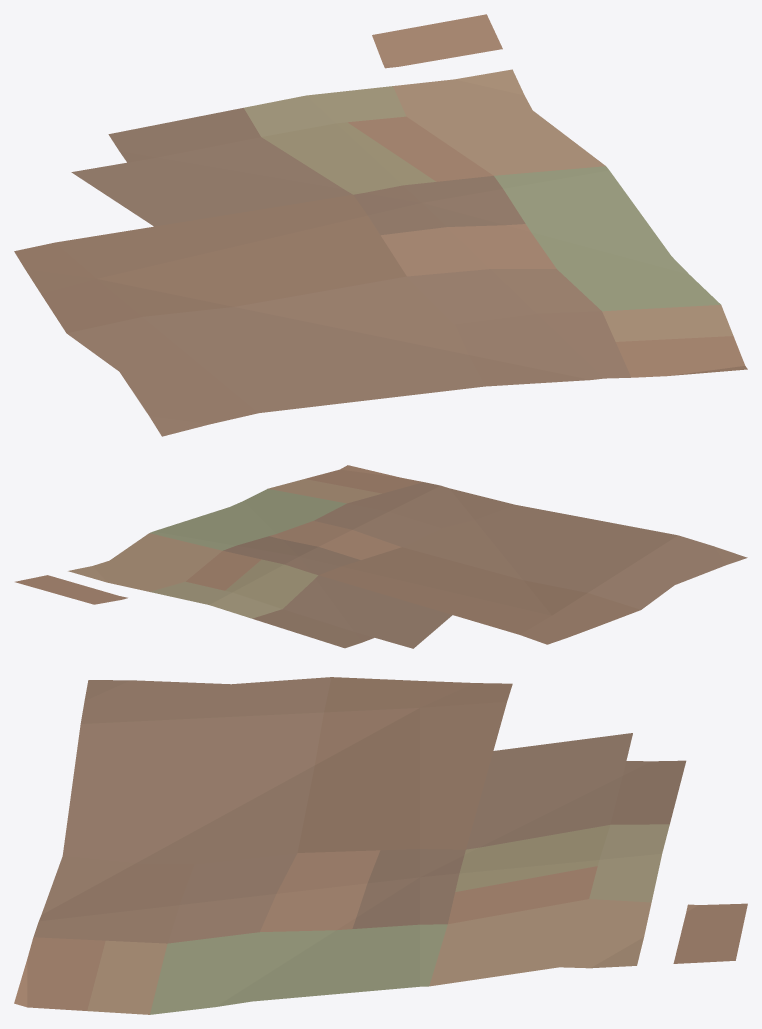
Rendered from farm_11_7_soil.glb.
3 views of the same model, one above another, from view 1: azimuth 30°, elevation 25°; view 2: azimuth 150°, elevation 25°; view 3: azimuth 270°, elevation 25° (orthographic). The views are drawn at different scales.
Visible parts, largest first — view 1: geometry_0; view 2: geometry_0; view 3: geometry_0.
Boxes of the visible parts, bbox=[...] form: geometry_0: bbox=[14, 14, 747, 436]; geometry_0: bbox=[15, 465, 747, 648]; geometry_0: bbox=[14, 677, 747, 1014].
Size of the model in its own units: 156 by 20.07 by 150.
